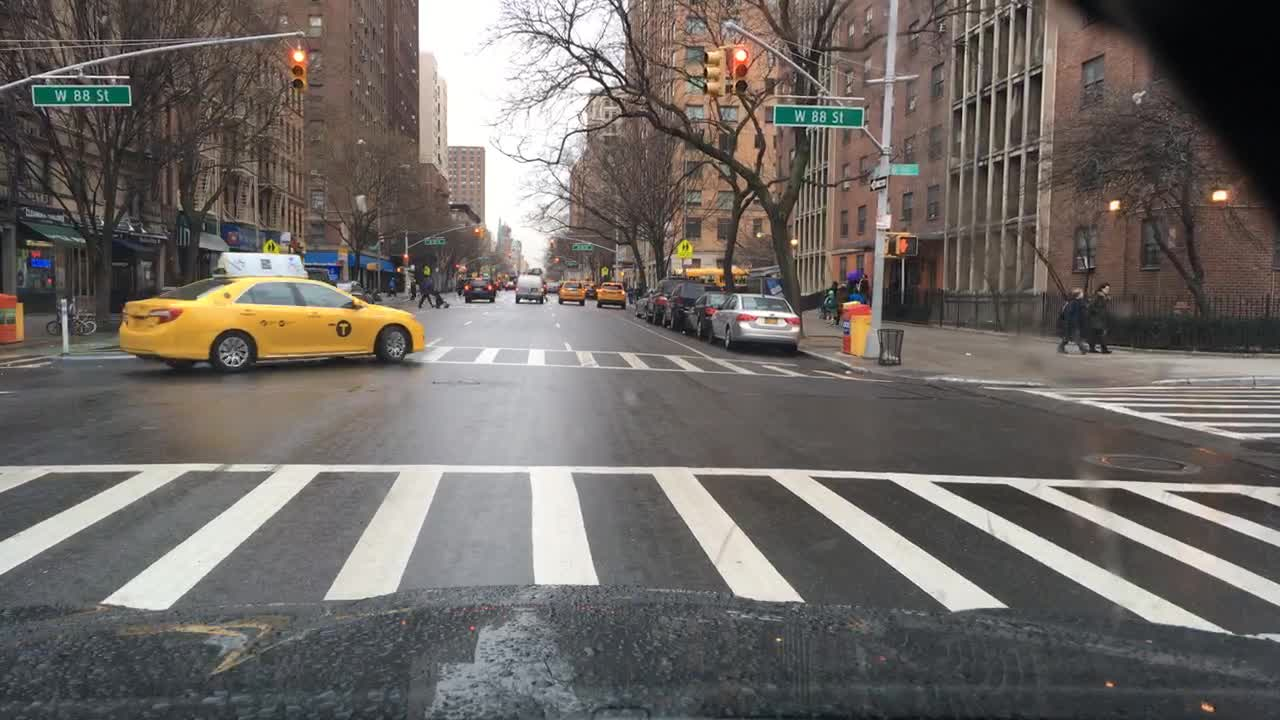bike: (44, 298, 95, 337)
car: (115, 251, 427, 374), (710, 291, 800, 352), (659, 280, 724, 330), (678, 291, 729, 337), (648, 278, 689, 328), (328, 276, 375, 308), (512, 273, 545, 304), (596, 278, 629, 308), (557, 278, 587, 304), (464, 278, 493, 302), (634, 287, 650, 322), (582, 282, 597, 297)
person: (1055, 285, 1090, 356), (1090, 279, 1115, 355), (425, 267, 452, 307), (822, 279, 838, 325), (847, 274, 869, 305), (417, 272, 435, 309), (387, 276, 396, 296), (543, 279, 549, 301)
traffic light: (702, 44, 726, 97), (732, 44, 749, 97), (289, 45, 306, 91), (896, 236, 918, 258), (890, 162, 915, 173), (885, 238, 898, 256), (570, 242, 594, 251), (868, 178, 887, 188), (480, 221, 486, 242), (473, 223, 479, 240), (400, 249, 402, 264)
traffic sign: (29, 84, 132, 106), (773, 106, 864, 128), (677, 238, 693, 258), (422, 236, 450, 245), (264, 238, 278, 251)
